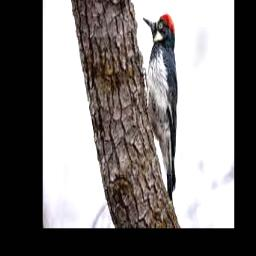Woodpecker: (142, 13, 177, 203)
